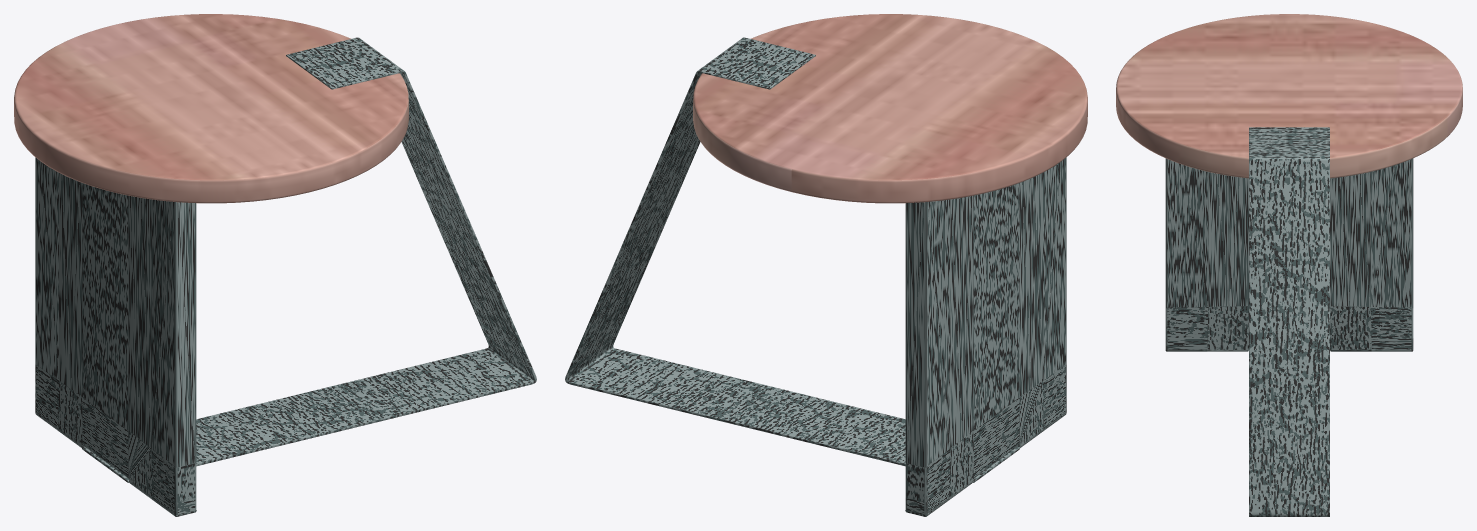
File: pinksidestool.fbx
3 renders of one model, left to right at view 1: azimuth 30°, elevation 25°; view 2: azimuth 150°, elevation 25°; view 3: azimuth 270°, elevation 25°, orthographic. The views are drawn at different scales.
Visible parts, largest first — view 1: Furniture_by_Max_Lamb_Cylinder002, Furniture_by_Max_Lamb_Box001, Furniture_by_Max_Lamb_Plane0011; view 2: Furniture_by_Max_Lamb_Cylinder002, Furniture_by_Max_Lamb_Box001, Furniture_by_Max_Lamb_Plane0011; view 3: Furniture_by_Max_Lamb_Cylinder002, Furniture_by_Max_Lamb_Plane0011, Furniture_by_Max_Lamb_Box001.
Boxes of the visible parts, x1=… form: Furniture_by_Max_Lamb_Cylinder002: x1=14, y1=14, x2=408, y2=203; Furniture_by_Max_Lamb_Box001: x1=35, y1=157, x2=196, y2=516; Furniture_by_Max_Lamb_Plane0011: x1=82, y1=37, x2=536, y2=482; Furniture_by_Max_Lamb_Cylinder002: x1=693, y1=14, x2=1087, y2=203; Furniture_by_Max_Lamb_Box001: x1=905, y1=157, x2=1066, y2=516; Furniture_by_Max_Lamb_Plane0011: x1=565, y1=37, x2=1019, y2=482; Furniture_by_Max_Lamb_Cylinder002: x1=1116, y1=14, x2=1462, y2=178; Furniture_by_Max_Lamb_Plane0011: x1=1249, y1=127, x2=1329, y2=516; Furniture_by_Max_Lamb_Box001: x1=1165, y1=158, x2=1413, y2=351.
Bounding box in the file's own units: 77.54 × 54 × 56.
3 materials, 3 textured.
